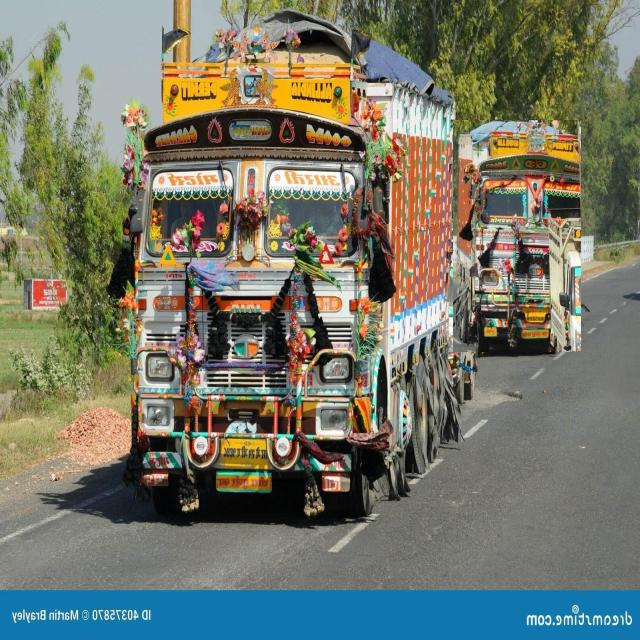truck: (120, 12, 460, 515), (453, 121, 580, 352)
